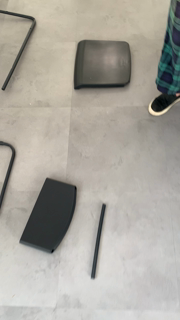Back: (17, 175, 81, 256)
Seat: (72, 37, 134, 93)
i pipe: (90, 201, 109, 281)
